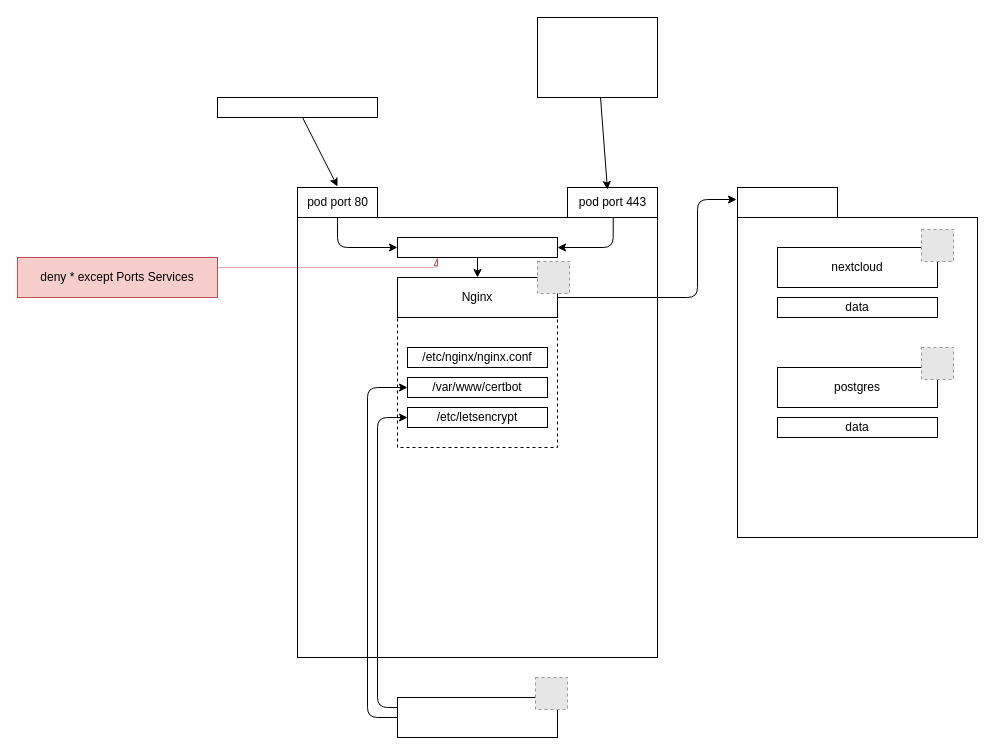
Image size: 995x755. Some labels were removed from this diagram. Grey dashed boxes stand in for pictures. Here are the shapes that lost their labels. From the top down, the centre of each, then its label:
the point at 597,57: https://client1.com https://client2.com ...
the point at 297,107: Challenge HTTP Port 80
the point at 787,202: pod port 8080
the point at 477,247: ufw / iptables
the point at 477,717: letsencrypt
